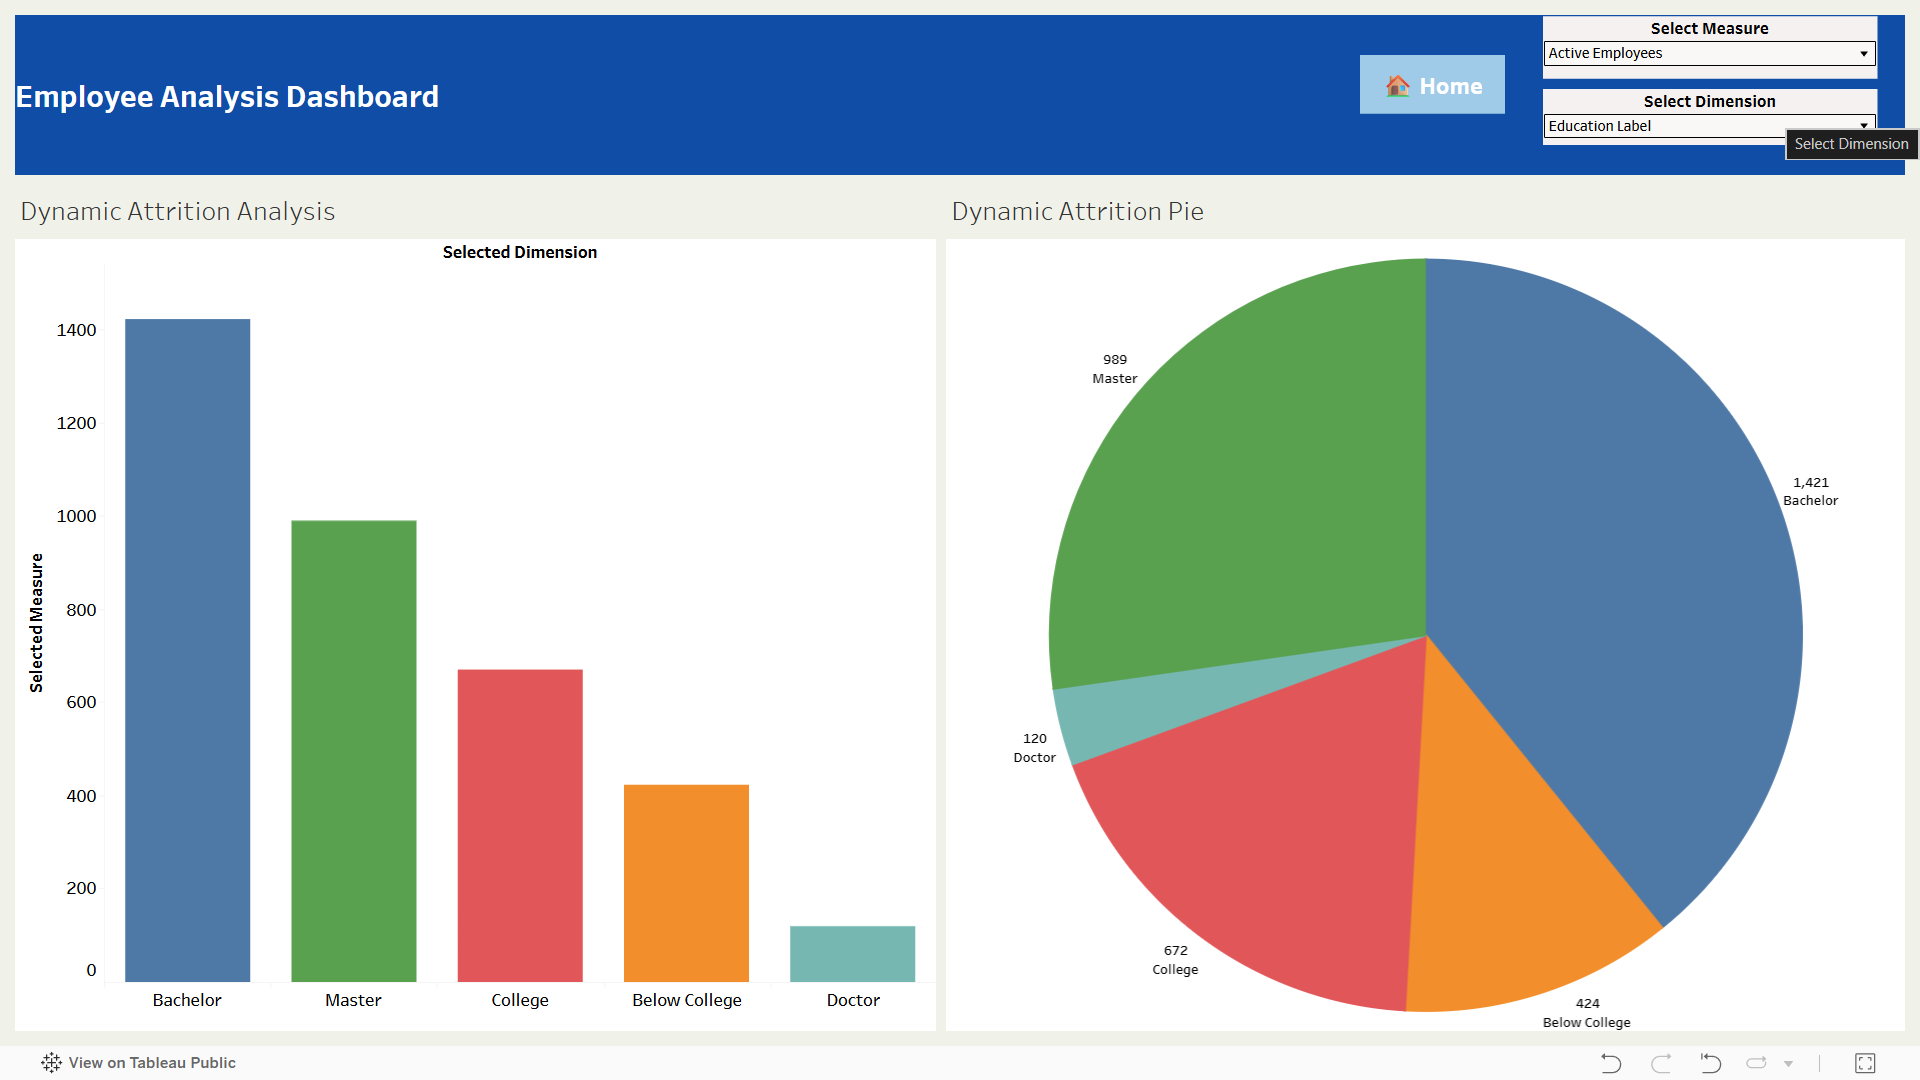

Layout of this report page (visuals, bound fields, positions):
{"tool":"tableau","page":{"name":"Employee Analysis Dashboard","canvas":[1000,1000],"units":"permille","ordinal":0},"visuals":[{"type":"title","box":[4.2,7.7,991.7,130.4]},{"type":"parameter","param":"[Parameters].[Select Dimension (copy)]","box":[800.8,10.6,179.8,55.6]},{"type":"dashboard-object","box":[708,52.9,75.9,56.4]},{"type":"parameter","param":"[Parameters].[Attrition Count Parameter]","box":[800.8,66.2,179.8,55.6]},{"type":"worksheet","title":"Dynamic Attrition Analysis","mark":"Automatic","rows":["Calculation_0710578545807363"],"cols":["Calculation_0710578533027840"],"box":[4.2,138.1,495.5,854.3]},{"type":"worksheet","title":"Dynamic Attrition Pie","mark":"Pie","box":[499.7,138.1,496.1,854.3]}]}

Visuals, with their boxes on the dashboard's canvas, which has no fixed pixel size, in thousandths of its width and height (x1, y1, x2, y2). These are canvas units, not pixel positions in the 1920x1080 screenshot, which may show the page scaled, cropped or inside an application window:
title: (x1=4, y1=8, x2=996, y2=138)
parameter: (x1=801, y1=11, x2=981, y2=66)
dashboard-object: (x1=708, y1=53, x2=784, y2=109)
parameter: (x1=801, y1=66, x2=981, y2=122)
"Dynamic Attrition Analysis" worksheet: (x1=4, y1=138, x2=500, y2=992)
"Dynamic Attrition Pie" worksheet (Pie marks): (x1=500, y1=138, x2=996, y2=992)
